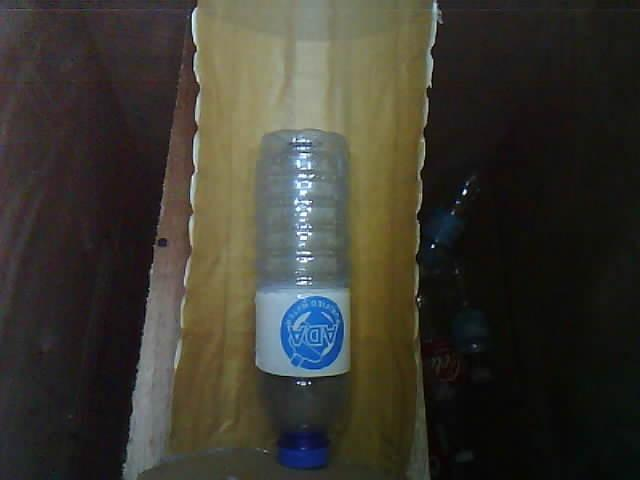small_bottle: (234, 118, 370, 480)
